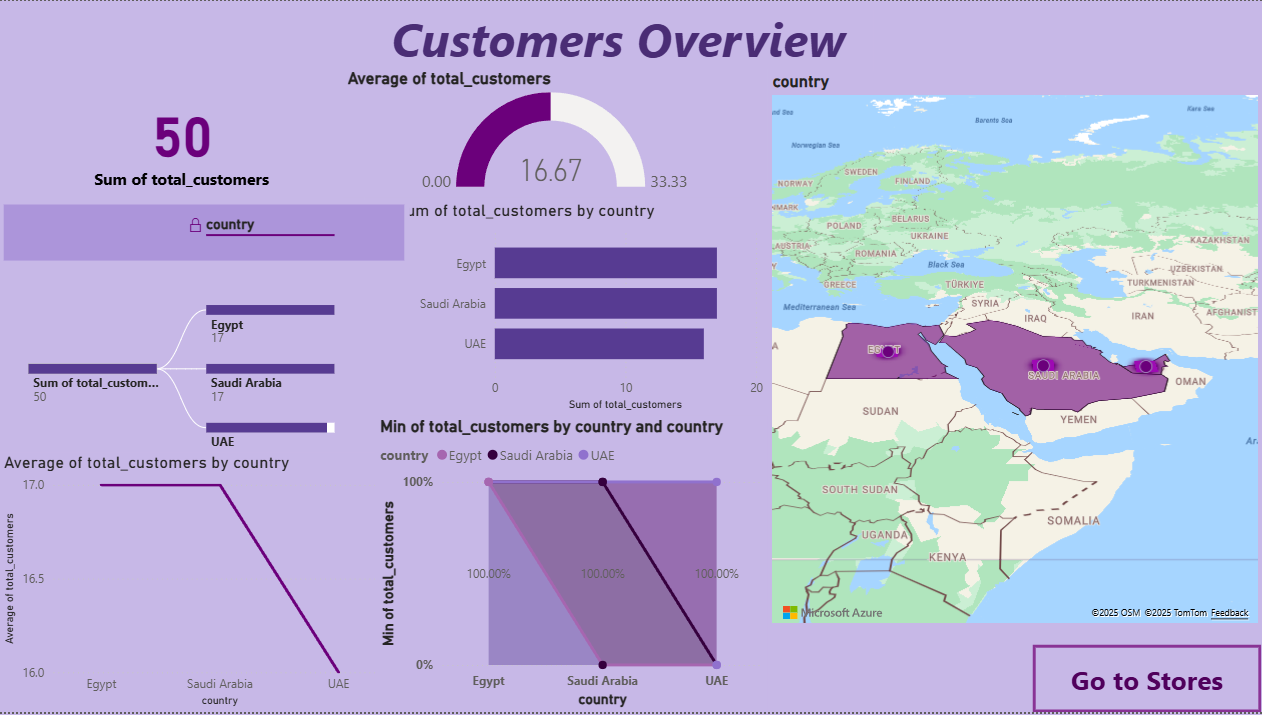

What the dashboard file says about the page in this screenshot:
{"tool":"powerbi","page":{"name":"Page 3","canvas":[1280,720],"ordinal":2},"visuals":[{"type":"textbox","box":[370,0,515.7,85.7],"z":0},{"type":"clusteredBarChart","fields":{"Category":["gold_customers.country"],"Y":["Sum(gold_customers.total_customers)"]},"box":[397.1,201.4,381.4,218.6],"z":1000},{"type":"card","fields":{"Values":["Sum(gold_customers.total_customers)"]},"box":[0,68.6,370,147.1],"z":2000},{"type":"lineChart","fields":{"Y":["Avg(gold_customers.total_customers)"],"Category":["gold_customers.country"]},"box":[0,457.1,397.1,262.9],"z":3000},{"type":"decompositionTreeVisual","fields":{"Analyze":["Sum(gold_customers.total_customers)"],"ExplainBy":["gold_customers.country"]},"box":[0,201.4,415.7,255.7],"z":4000},{"type":"azureMap","fields":{"Category":["gold_customers.country"]},"box":[778.6,71.4,501.4,564.3],"z":5000},{"type":"hundredPercentStackedAreaChart","fields":{"Category":["gold_customers.country"],"Series":["gold_customers.country"],"Y":["Min(gold_customers.total_customers)"]},"box":[381.4,420,397.1,300],"z":6000},{"type":"gauge","fields":{"Y":["Avg(gold_customers.total_customers)"]},"box":[348.6,68.6,430,130],"z":7000},{"type":"actionButton","box":[1047.1,651.4,231.4,68.6],"z":8000}]}

Visuals, with their boxes in screenshot pixels (x1, y1, x2, y2), scaled from the page's 1280x720 canvas onto the 1262x715 screenshot:
textbox: x1=365 y1=0 x2=873 y2=85
clusteredBarChart - gold_customers.country x Sum(gold_customers.total_customers): x1=392 y1=200 x2=768 y2=417
card - Sum(gold_customers.total_customers): x1=0 y1=68 x2=365 y2=214
lineChart - Avg(gold_customers.total_customers) x gold_customers.country: x1=0 y1=454 x2=392 y2=714
decompositionTreeVisual - Sum(gold_customers.total_customers) x gold_customers.country: x1=0 y1=200 x2=410 y2=454
azureMap - gold_customers.country: x1=768 y1=71 x2=1261 y2=631
hundredPercentStackedAreaChart - gold_customers.country x gold_customers.country: x1=376 y1=417 x2=768 y2=714
gauge - Avg(gold_customers.total_customers): x1=344 y1=68 x2=768 y2=197
actionButton: x1=1032 y1=647 x2=1261 y2=714
